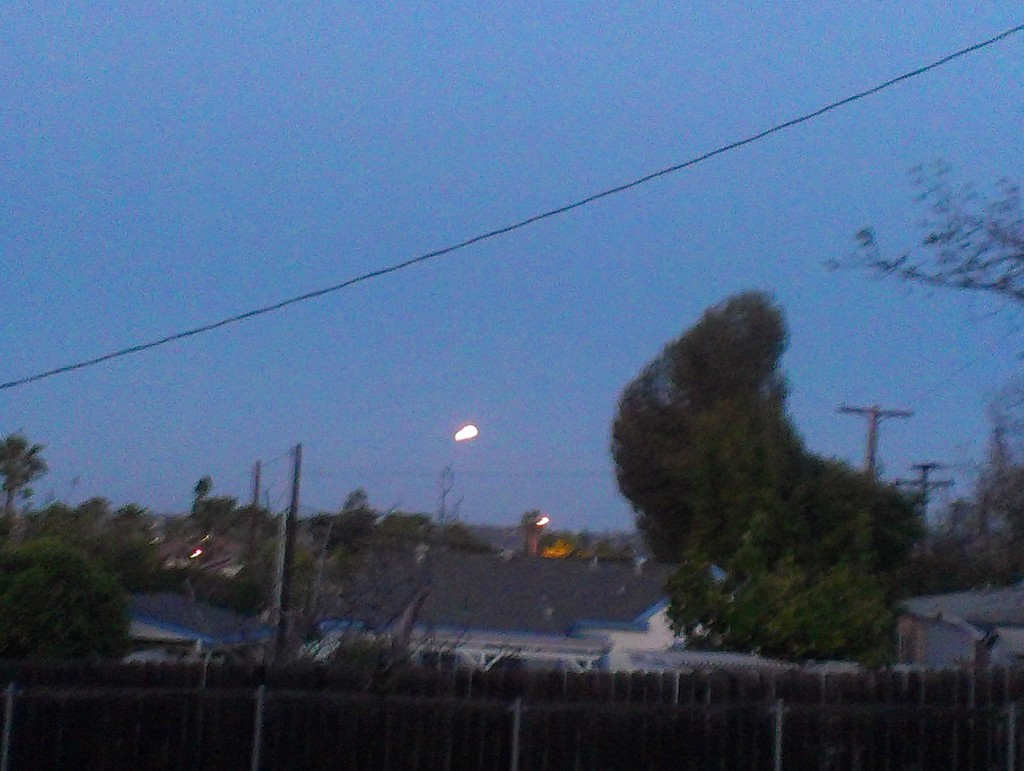Tree: (604, 251, 917, 658), (0, 432, 49, 521)
